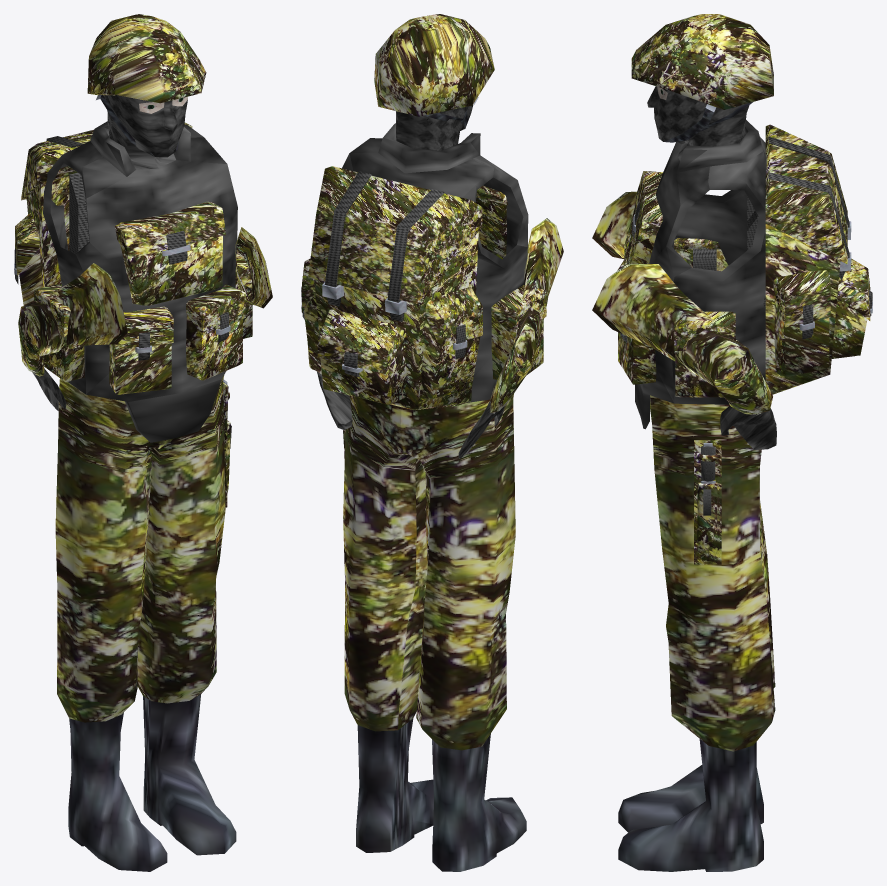
Rendered from elite-soldier.glb.
3 renders of one model, left to right at view 1: azimuth 30°, elevation 25°; view 2: azimuth 150°, elevation 25°; view 3: azimuth 270°, elevation 25°, orthographic.
Parts seen in each view (by area): view 1: legs, vest, boots, bags, baglids, arms, hat, head, ribbon, bladecover, hands; view 2: legs, baglids, boots, bags, vest, hat, arms, ribbon, head, hands, steel; view 3: legs, vest, baglids, boots, bags, arms, hat, head, ribbon, bladecover, hands, strap.
Part boxes in pixels (x1=…): legs: x1=55, y1=375, x2=225, y2=722; vest: x1=43, y1=121, x2=237, y2=442; boots: x1=68, y1=694, x2=236, y2=871; bags: x1=19, y1=176, x2=252, y2=394; baglids: x1=15, y1=122, x2=252, y2=349; arms: x1=18, y1=227, x2=272, y2=376; hat: x1=87, y1=14, x2=206, y2=103; head: x1=103, y1=95, x2=187, y2=169; ribbon: x1=14, y1=136, x2=228, y2=360; bladecover: x1=223, y1=382, x2=230, y2=507; hands: x1=32, y1=368, x2=66, y2=410; legs: x1=343, y1=394, x2=515, y2=750; baglids: x1=302, y1=166, x2=546, y2=373; boots: x1=356, y1=718, x2=526, y2=871; bags: x1=304, y1=197, x2=543, y2=409; vest: x1=342, y1=123, x2=528, y2=402; hat: x1=374, y1=14, x2=494, y2=116; arms: x1=307, y1=218, x2=563, y2=413; ribbon: x1=301, y1=171, x2=465, y2=376; head: x1=396, y1=104, x2=473, y2=150; hands: x1=317, y1=371, x2=504, y2=458; steel: x1=301, y1=282, x2=467, y2=372; legs: x1=650, y1=395, x2=775, y2=751; vest: x1=635, y1=120, x2=766, y2=429; baglids: x1=617, y1=124, x2=870, y2=350; boots: x1=618, y1=739, x2=763, y2=871; bags: x1=618, y1=204, x2=867, y2=397; arms: x1=592, y1=191, x2=772, y2=415; hat: x1=631, y1=14, x2=773, y2=109; head: x1=647, y1=86, x2=749, y2=160; ribbon: x1=620, y1=136, x2=872, y2=343; bladecover: x1=694, y1=440, x2=721, y2=564; hands: x1=720, y1=406, x2=776, y2=449; strap: x1=663, y1=102, x2=752, y2=142.
Bounding box in the file's own units: 0.48 × 1.81 × 0.5597.
Materials: 7 (7 with a texture image).
